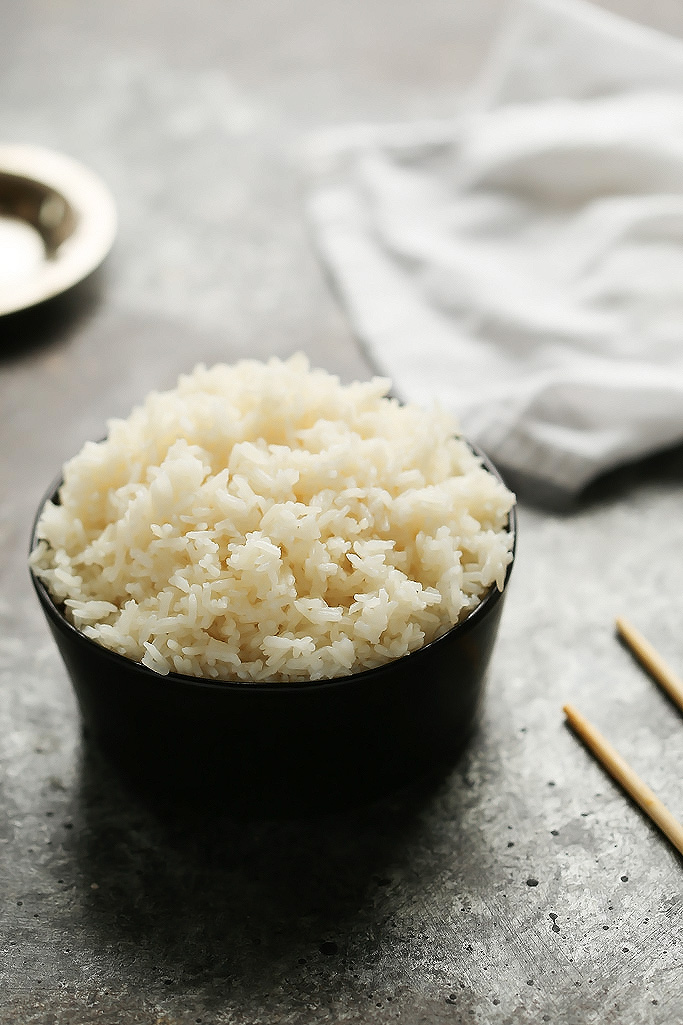rice: (40, 318, 514, 755)
